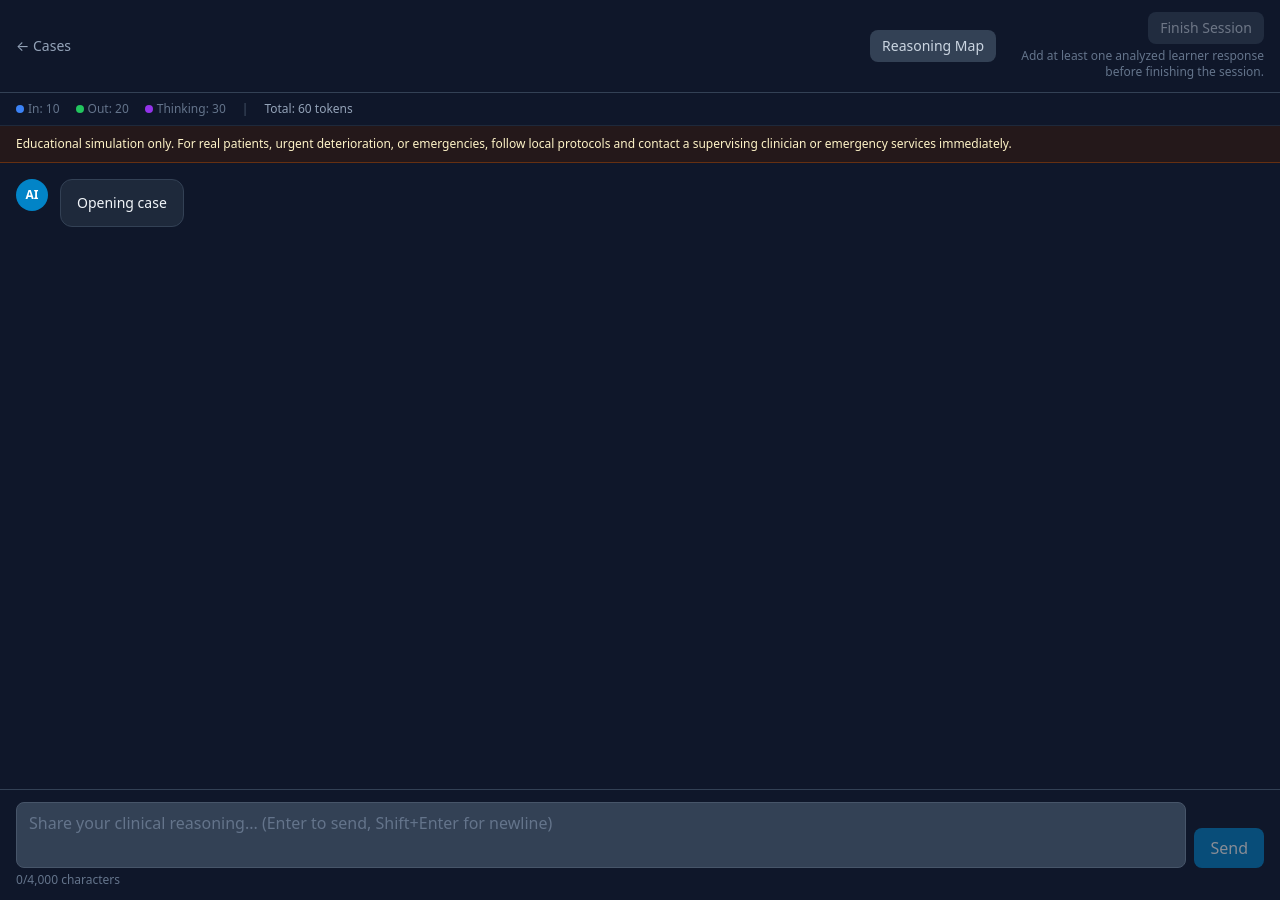
Test case: SessionPage › shows stream errors to the learner
Replace the text in the text box with placeholder "Share your clinical reasoning" with "My reasoning" at {"x": 601, "y": 835}, box [16,802,1186,868]
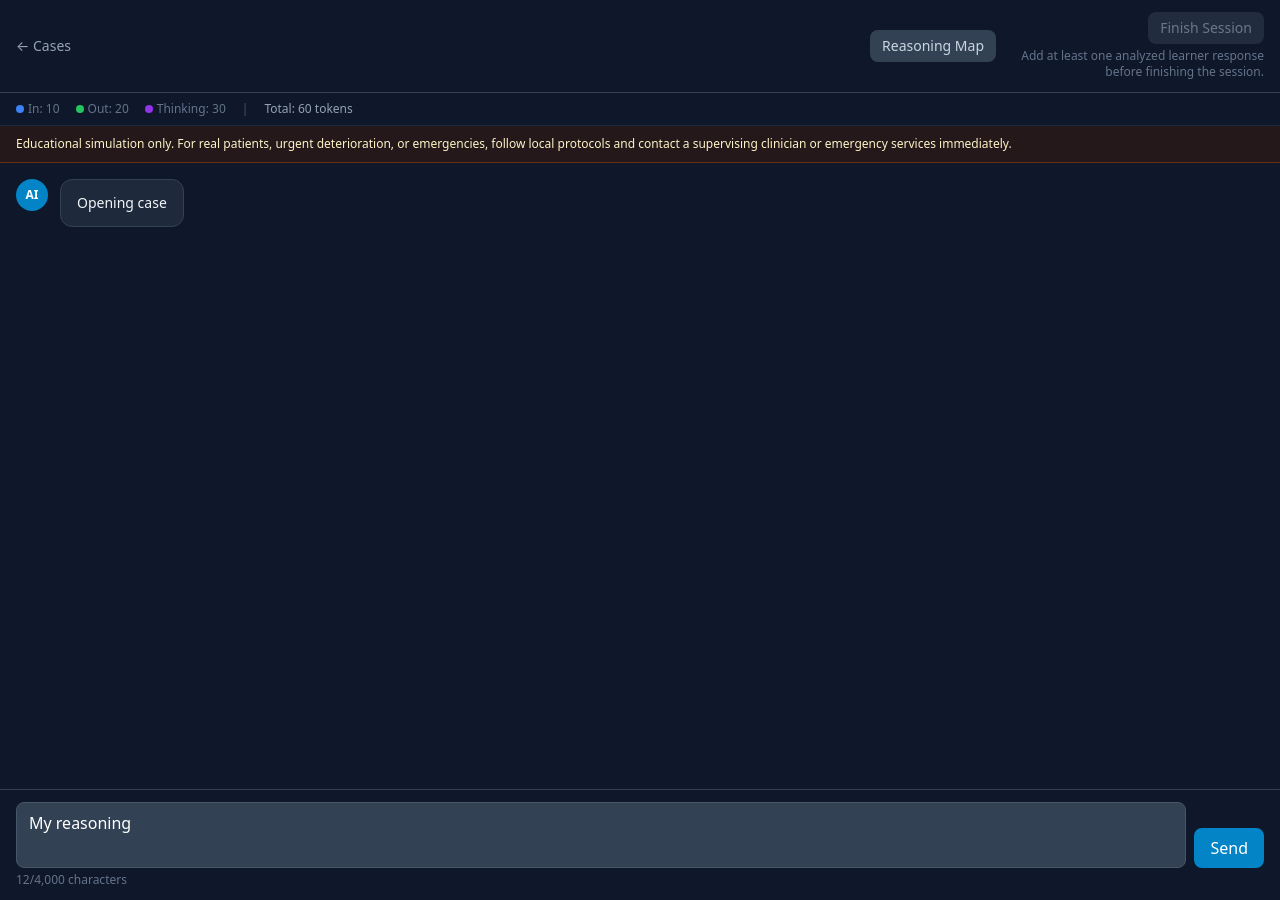
Click the button "Send" at {"x": 1229, "y": 848}, box [1194,828,1264,868]
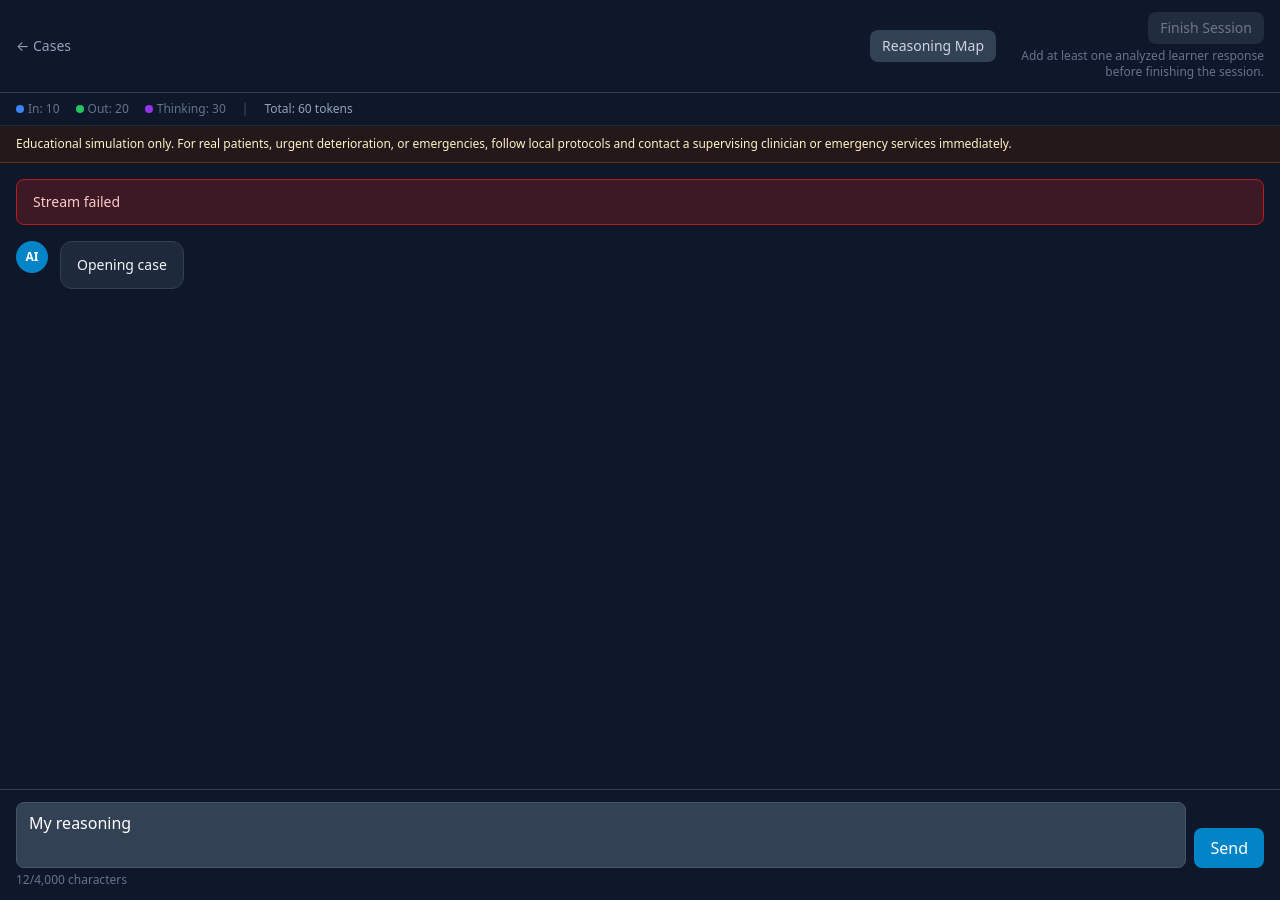
Now the text "Stream failed" is shown, box [16,178,1264,224]
